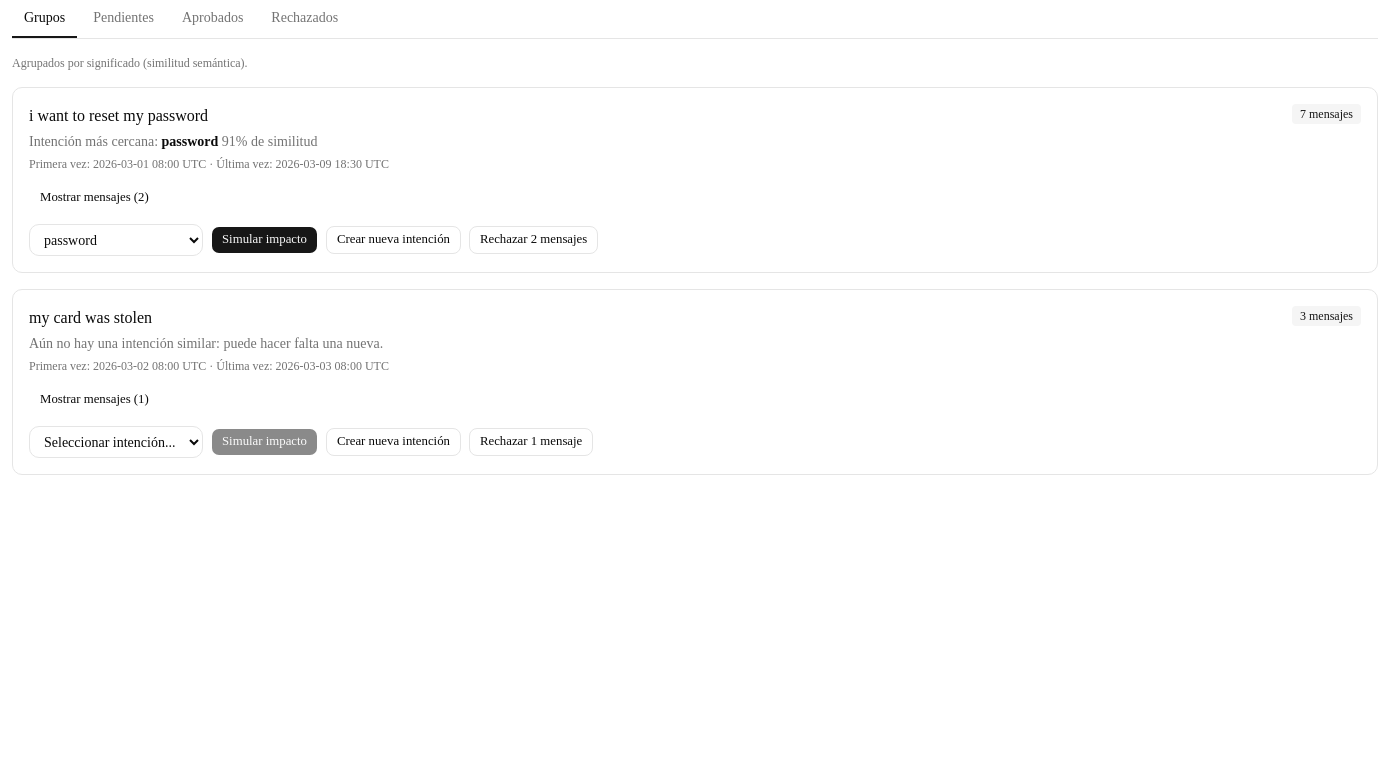
Test: ReviewClusters: impact simulation › drops the simulation when the target intent changes
Click the button "Simular impacto" below "Intención más cercana:" at (264, 240), box top-left (211, 226), bottom-right (318, 254)
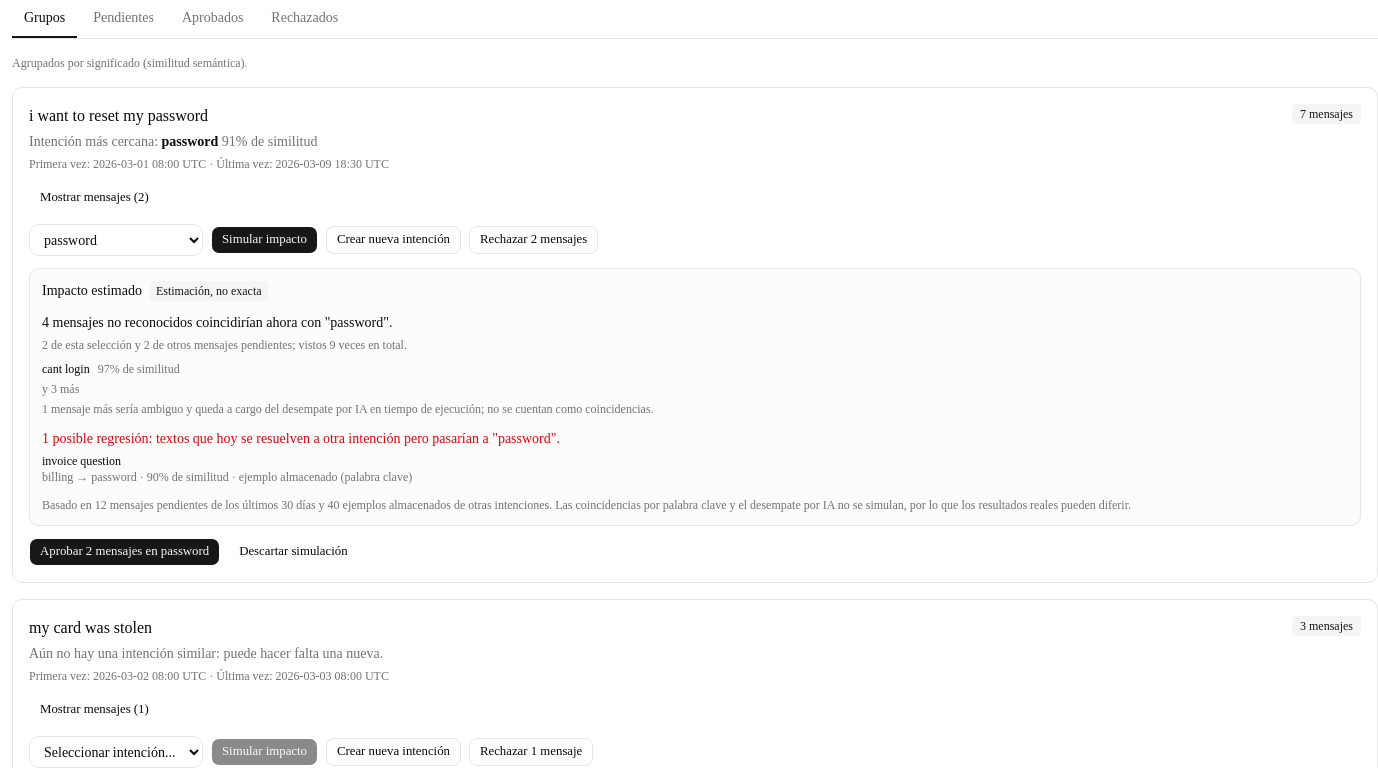
Expected: the element "Impacto estimado" is shown, top-left (29, 268), bottom-right (1361, 526)
Select "card" in the dropdown named "intención de destino" below "Intención más cercana:" at (116, 240), box top-left (29, 224), bottom-right (203, 256)
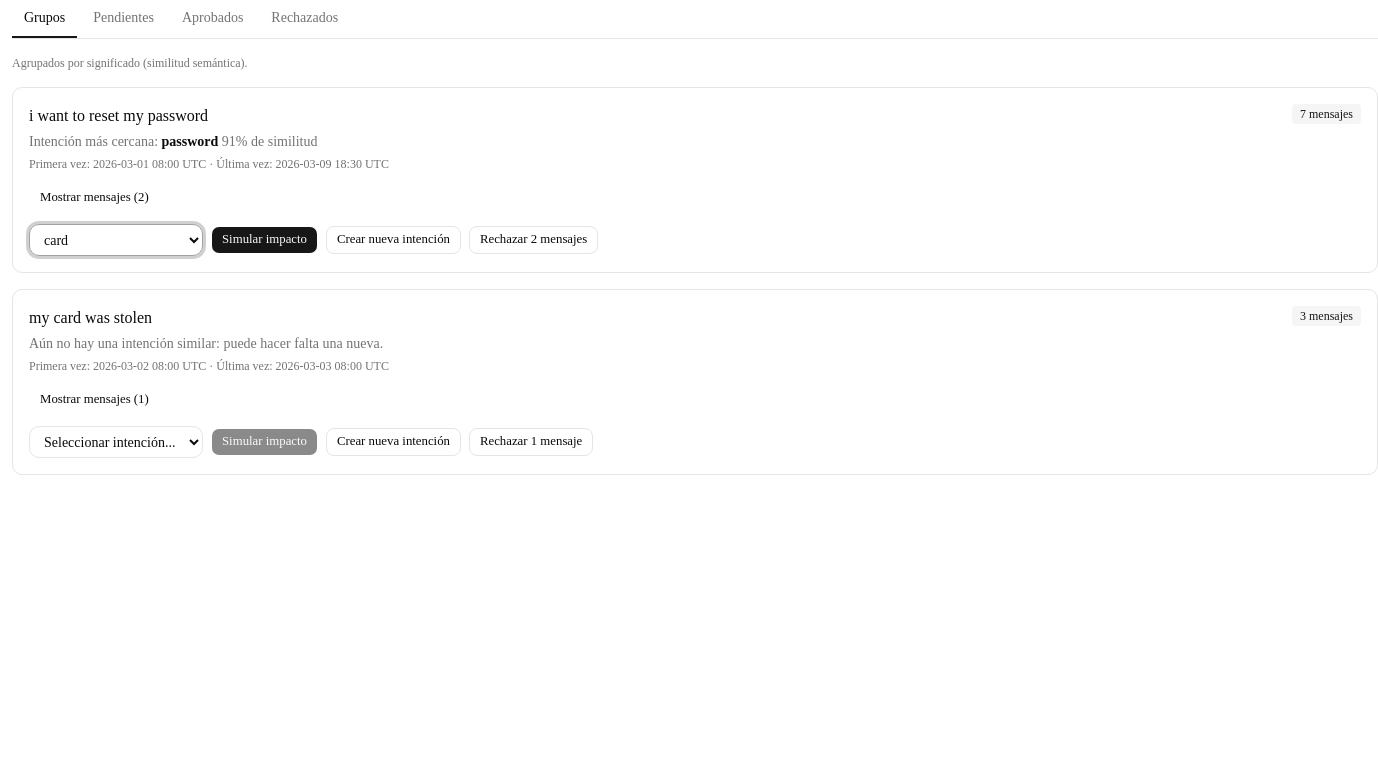
Expected: the heading "Impacto estimado" is gone
